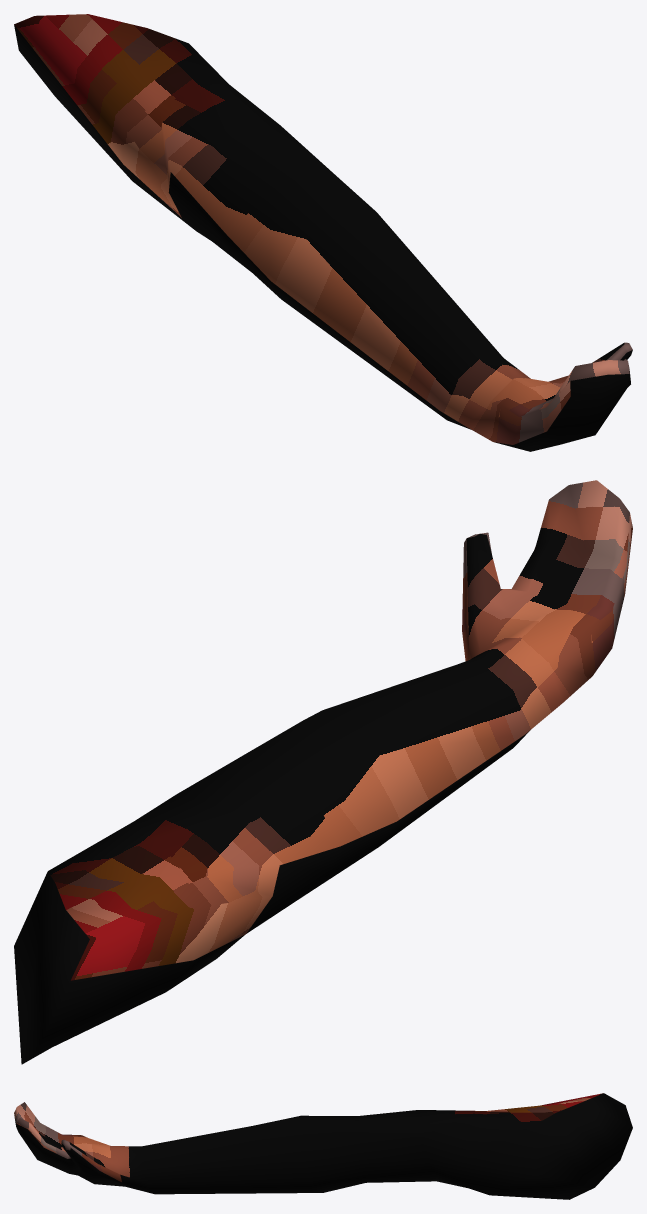
The model's file is arm.fbx.
3 views of the same model, one above another, from view 1: azimuth 30°, elevation 25°; view 2: azimuth 150°, elevation 25°; view 3: azimuth 270°, elevation 25° (orthographic). The views are drawn at different scales.
Visible parts, largest first — view 1: Cube.001; view 2: Cube.001; view 3: Cube.001.
Boxes of the visible parts, box(x1,y1,x2,y2) form: Cube.001: box(14, 14, 632, 451); Cube.001: box(14, 480, 632, 1064); Cube.001: box(14, 1093, 632, 1199).
Bounding box in the file's own units: 14.05 × 13.67 × 86.06.
